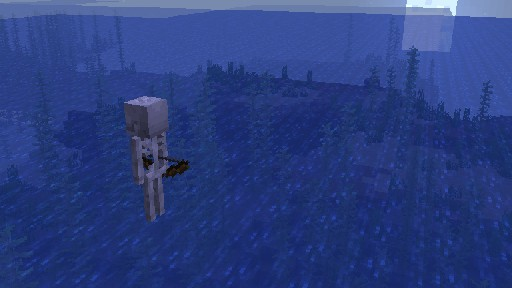skeleton: (123, 95, 189, 222)
